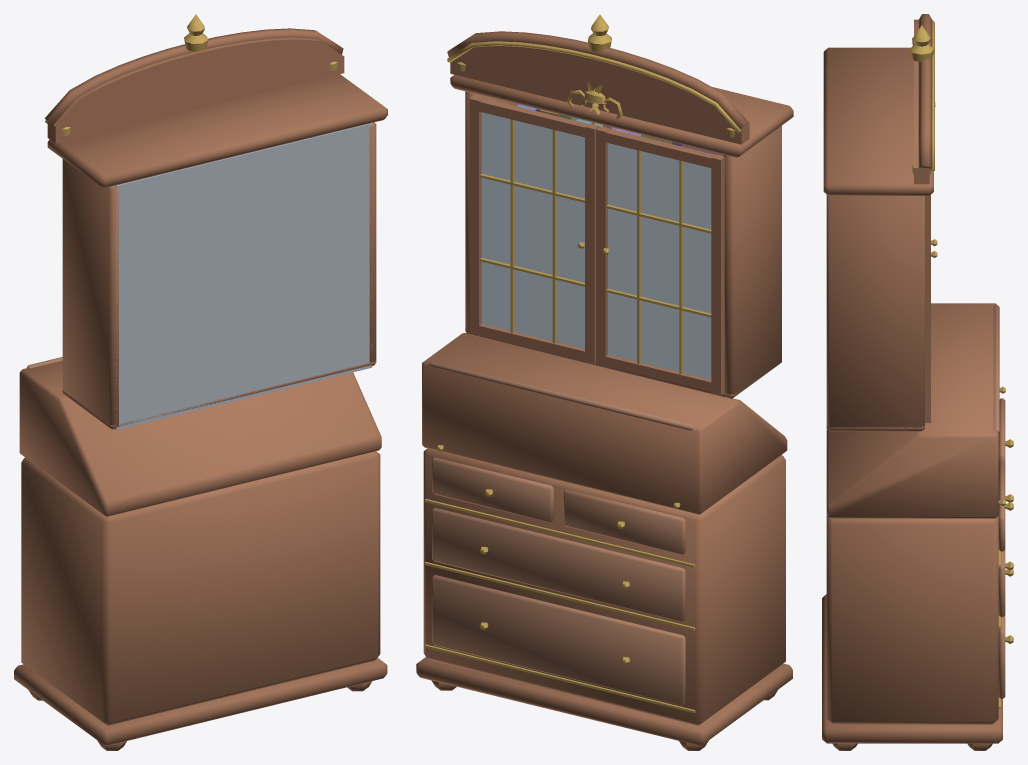
File: bureau_secretary.glb
3 views of the same model, side by side, from view 1: azimuth 30°, elevation 25°; view 2: azimuth 150°, elevation 25°; view 3: azimuth 270°, elevation 25° (orthographic). The views are drawn at different scales.
Visible parts, largest first — view 1: bureau_secretary; view 2: bureau_secretary; view 3: bureau_secretary.
Boxes of the visible parts, <box> form: bureau_secretary: <box>14,14,387,750</box>; bureau_secretary: <box>416,14,793,750</box>; bureau_secretary: <box>822,14,1013,750</box>.
Size of what is drawn, in the model's own units: 1.05 by 2.3 by 0.6.
